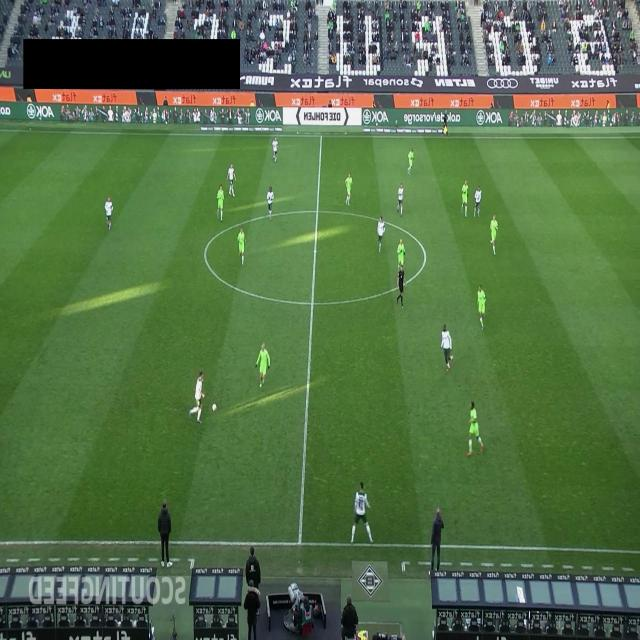ball: (212, 403, 216, 412)
player: (351, 481, 374, 545), (466, 400, 484, 456), (190, 371, 205, 424), (255, 342, 270, 388), (440, 324, 452, 372), (477, 284, 486, 330), (376, 215, 386, 253), (226, 163, 236, 196), (104, 195, 113, 231), (238, 225, 245, 268), (216, 183, 224, 220), (491, 214, 498, 256), (266, 186, 274, 220), (344, 172, 352, 206), (461, 180, 468, 217), (398, 238, 406, 270), (474, 185, 482, 217), (397, 182, 404, 216), (407, 147, 414, 175), (272, 136, 278, 162)
referee: (396, 263, 406, 307), (442, 114, 448, 136)
